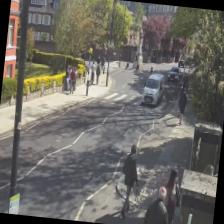person: (118, 144, 142, 218), (143, 184, 172, 224), (176, 88, 189, 125)
